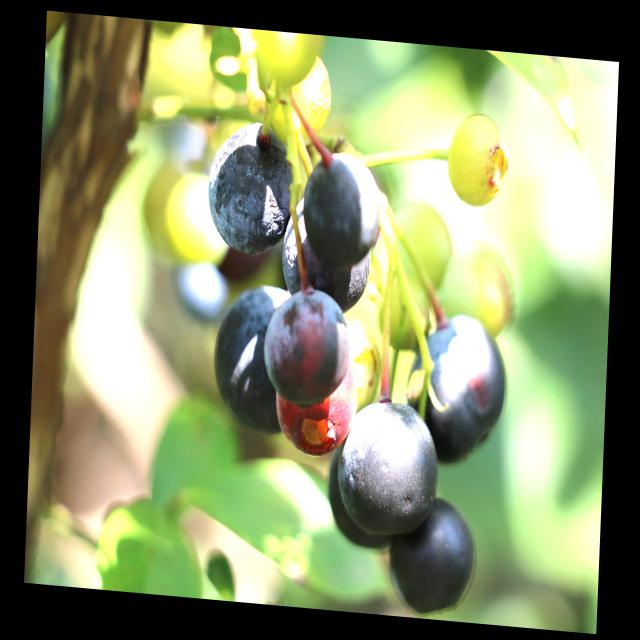blueberry: (411, 310, 508, 476), (337, 396, 444, 537), (208, 278, 290, 435), (208, 118, 294, 263), (386, 496, 480, 617), (261, 281, 353, 401), (273, 206, 374, 309), (303, 150, 383, 268)
blueberry-halfripe: (268, 350, 359, 458)
blueberry-unripe: (437, 250, 515, 342), (445, 113, 509, 207), (282, 54, 332, 147), (255, 29, 326, 94)
